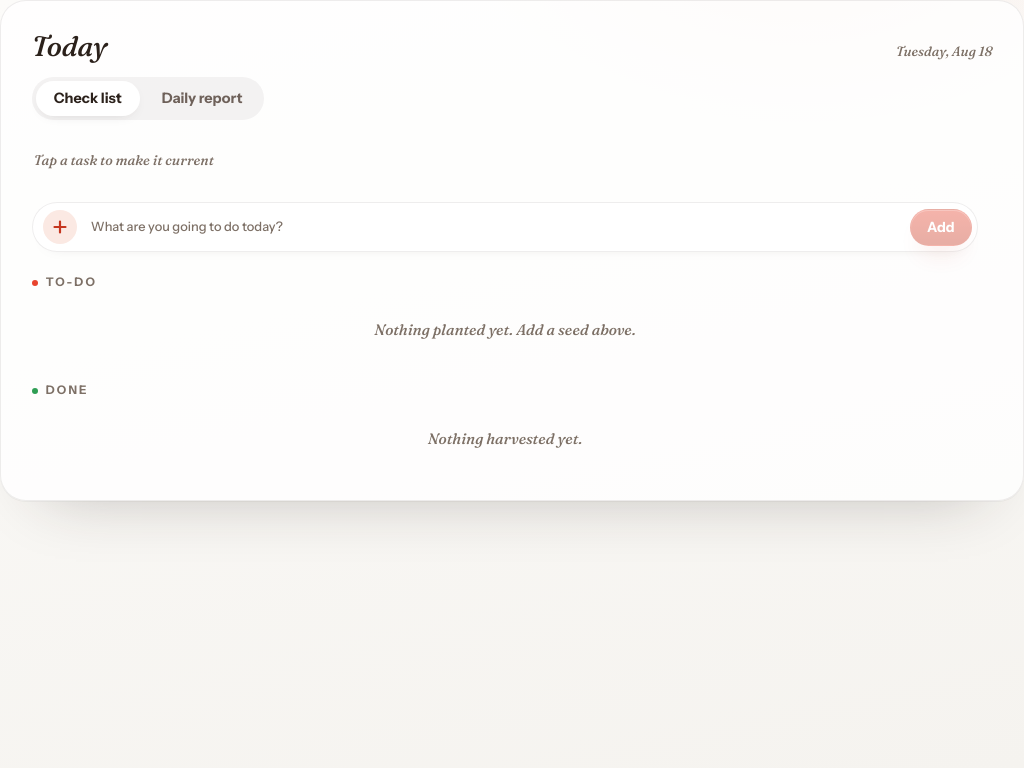
Test: TodoPanel › switches to the daily report tab
This screenshot has width=1024, height=768.
Click the tab "Daily report": (202, 99) x1=144 y1=81 x2=260 y2=116
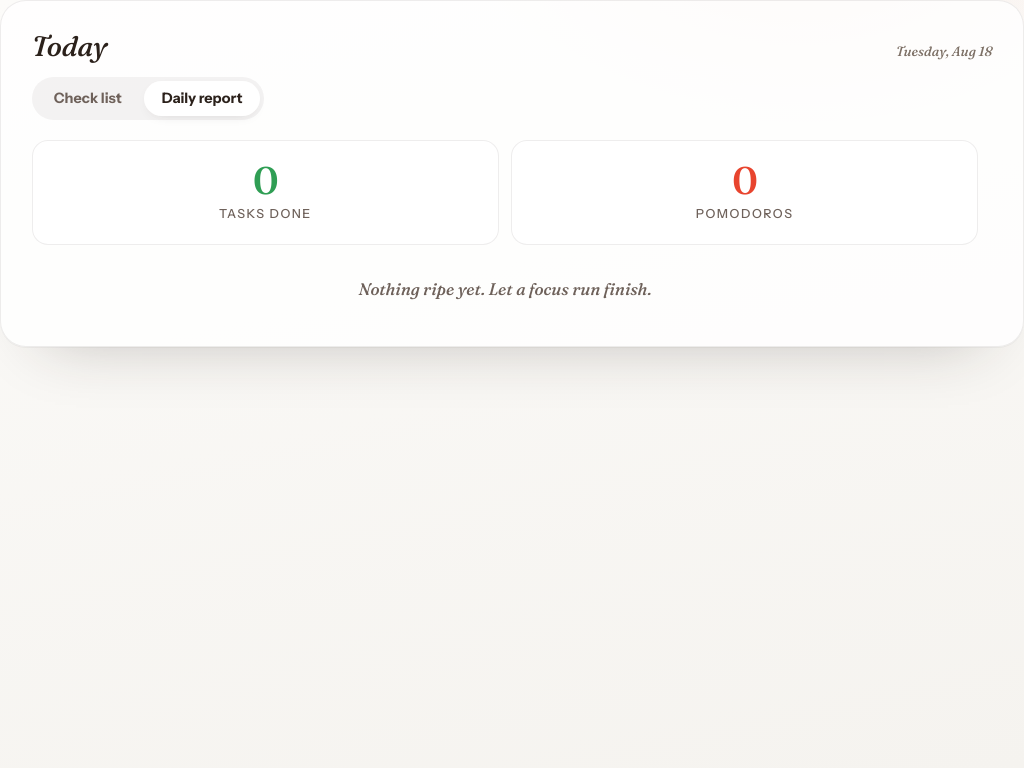
expect the text "Nothing ripe yet. Let a focus run finish." is shown: met, box x1=358 y1=280 x2=652 y2=300
